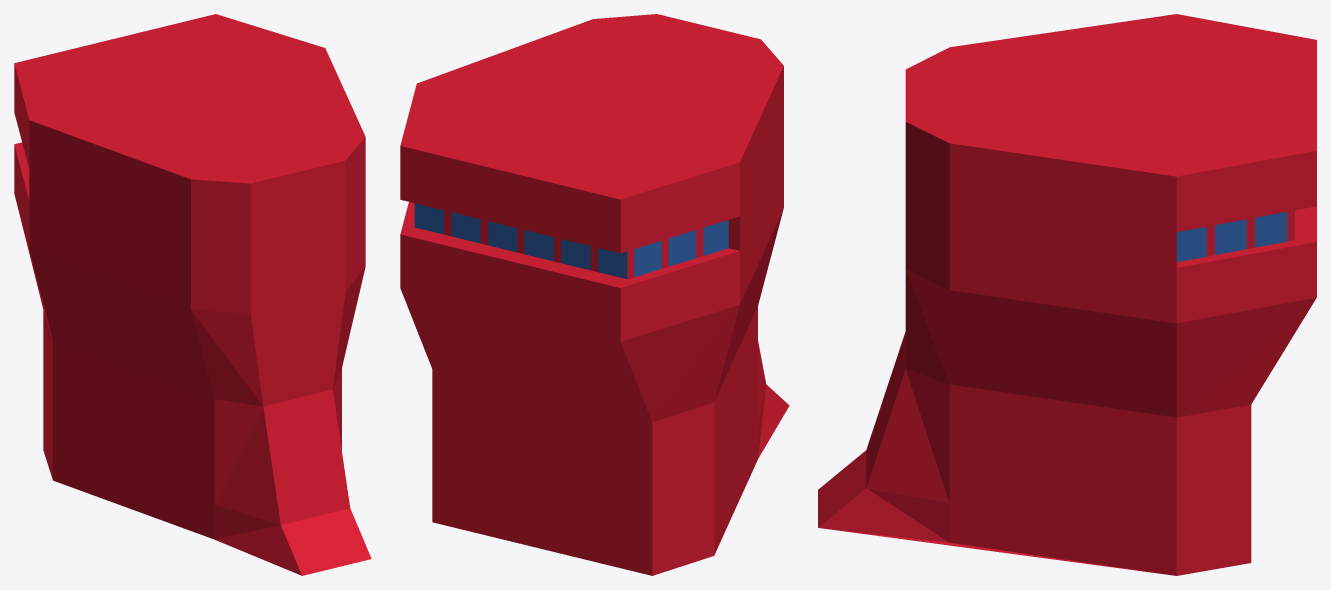
File: VoidBody.FBX
3 renders of one model, left to right at view 1: azimuth 30°, elevation 25°; view 2: azimuth 150°, elevation 25°; view 3: azimuth 270°, elevation 25°, orthographic. The views are drawn at different scales.
Parts seen in each view (by area): view 1: VIFS001; view 2: VIFS001, VIFS002; view 3: VIFS001, VIFS002.
Boxes of the visible parts, box(x1,y1,x2,y2) form: VIFS001: box(14, 14, 371, 575); VIFS001: box(400, 14, 789, 575); VIFS002: box(414, 203, 728, 279); VIFS001: box(818, 14, 1316, 575); VIFS002: box(1176, 212, 1287, 261).
Size of the model in its own units: 0.703 by 0.833 by 0.911.
